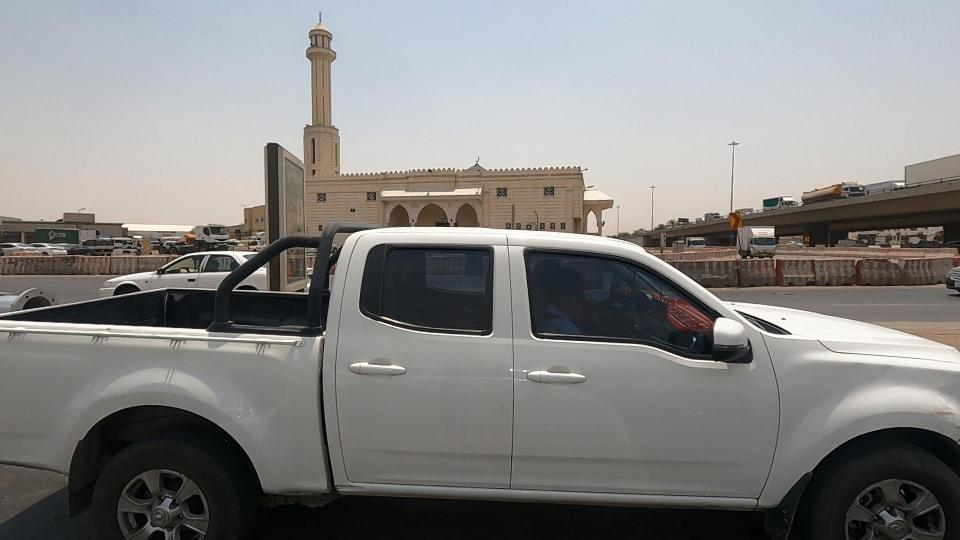CONSTRUCTION_ROAD: (643, 215, 960, 310), (0, 229, 151, 298)
